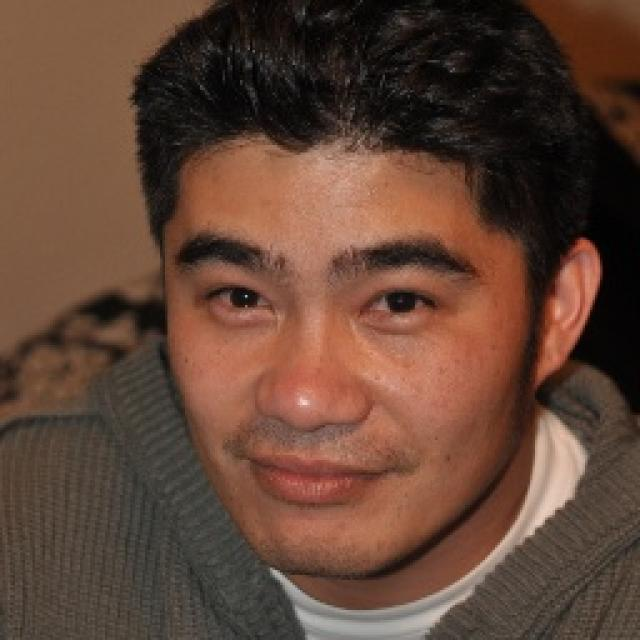earlobe: (533, 345, 568, 396)
eye: (356, 287, 435, 323), (209, 284, 272, 320)
nose: (261, 410, 366, 454)
wholeear: (532, 240, 602, 394)
